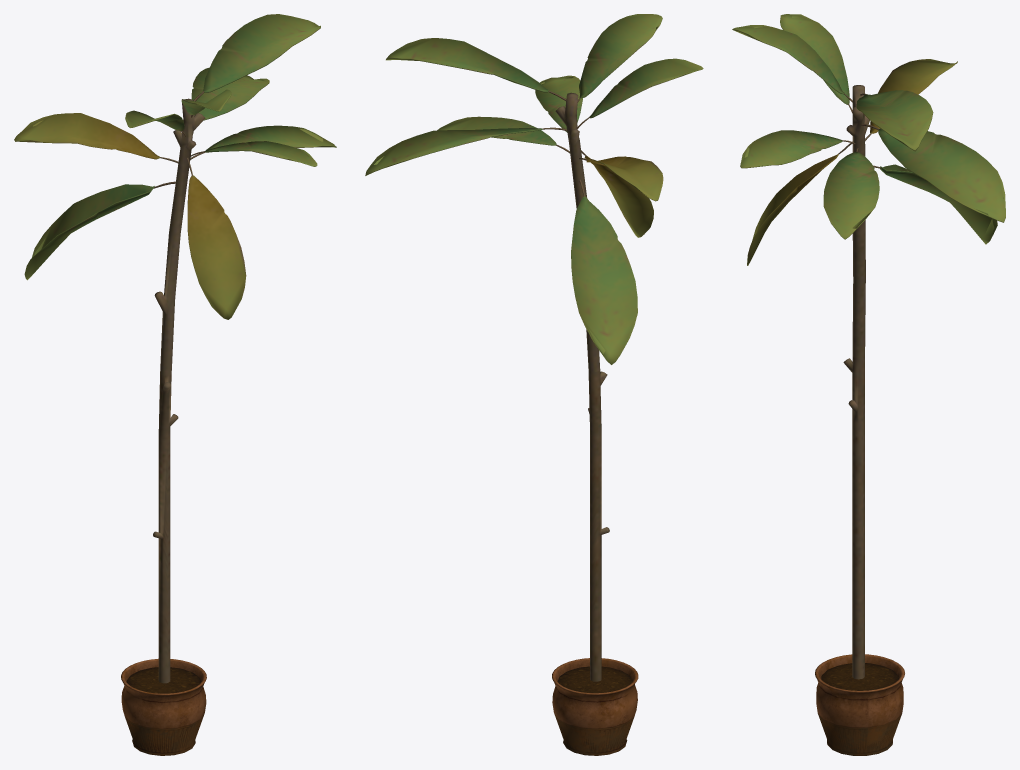
Rendered from Plant.fbx.
3 renders of one model, left to right at view 1: azimuth 30°, elevation 25°; view 2: azimuth 150°, elevation 25°; view 3: azimuth 270°, elevation 25°, orthographic. The views are drawn at different scales.
Visible parts, largest first — view 1: Plant; view 2: Plant; view 3: Plant.
Part boxes in pixels (bbox=[...]): Plant: bbox=[14, 14, 336, 755]; Plant: bbox=[365, 14, 703, 755]; Plant: bbox=[732, 14, 1005, 755].
Bounding box in the file's own units: 139 × 315 × 109.
Materials: 1 (1 with a texture image).
